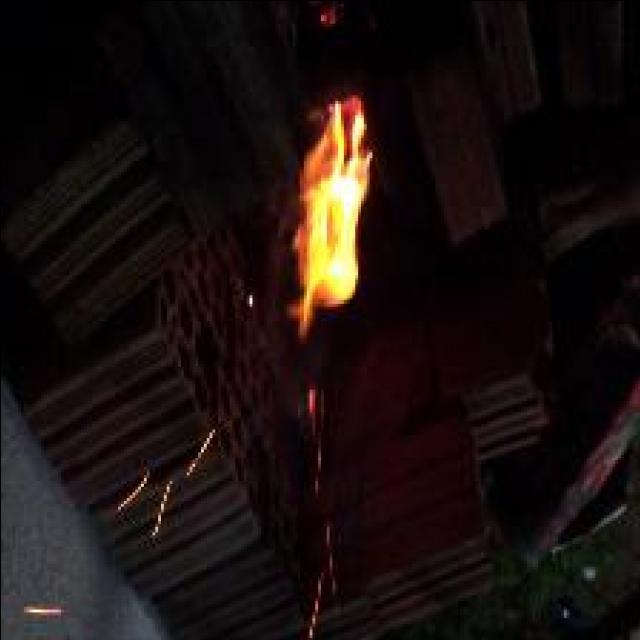Fire: (287, 100, 373, 334)
